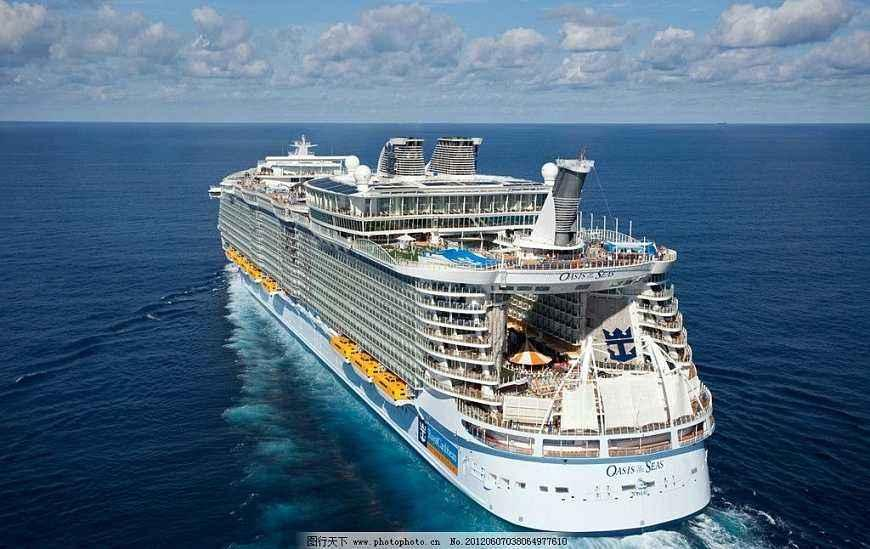youlun: (211, 127, 722, 527)
